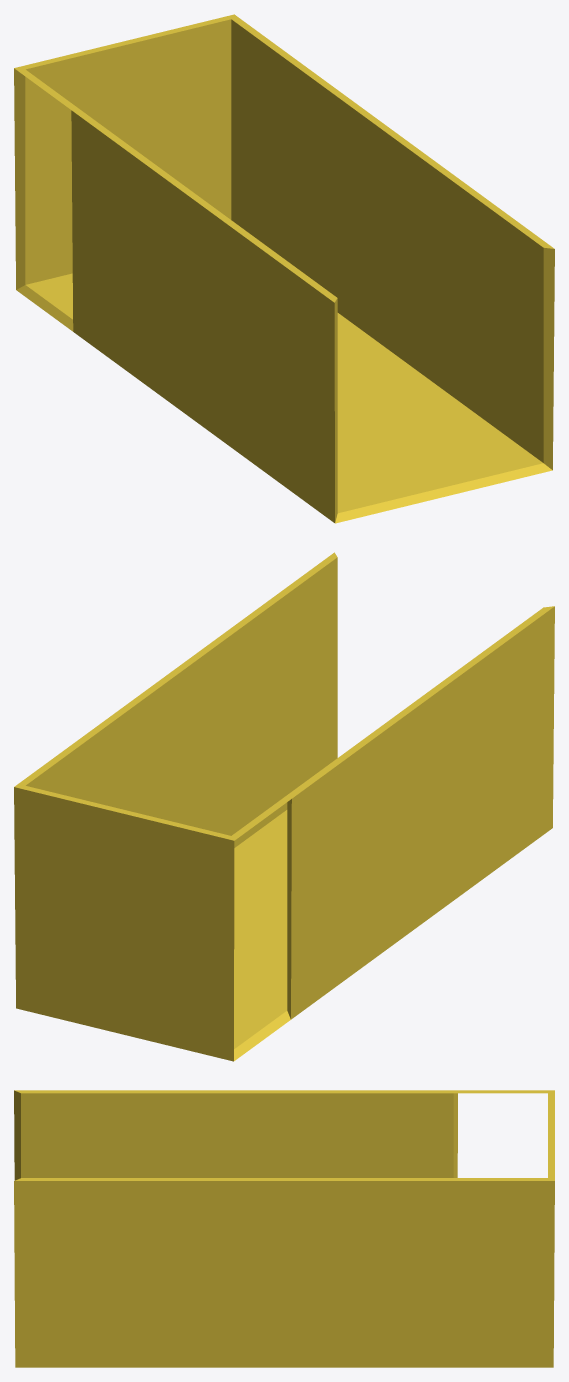
The model's file is Tower.fbx.
3 renders of one model, top to bottom at view 1: azimuth 30°, elevation 25°; view 2: azimuth 150°, elevation 25°; view 3: azimuth 270°, elevation 25°, orthographic. The views are drawn at different scales.
Parts seen in each view (by area): view 1: Cube_low; view 2: Cube_low; view 3: Cube_low.
Boxes of the visible parts, x1,y1,x2,y2 form: Cube_low: [14, 14, 554, 523]; Cube_low: [14, 552, 554, 1061]; Cube_low: [14, 1090, 554, 1367].
Size of the model in its own units: 321 by 309 by 809.
